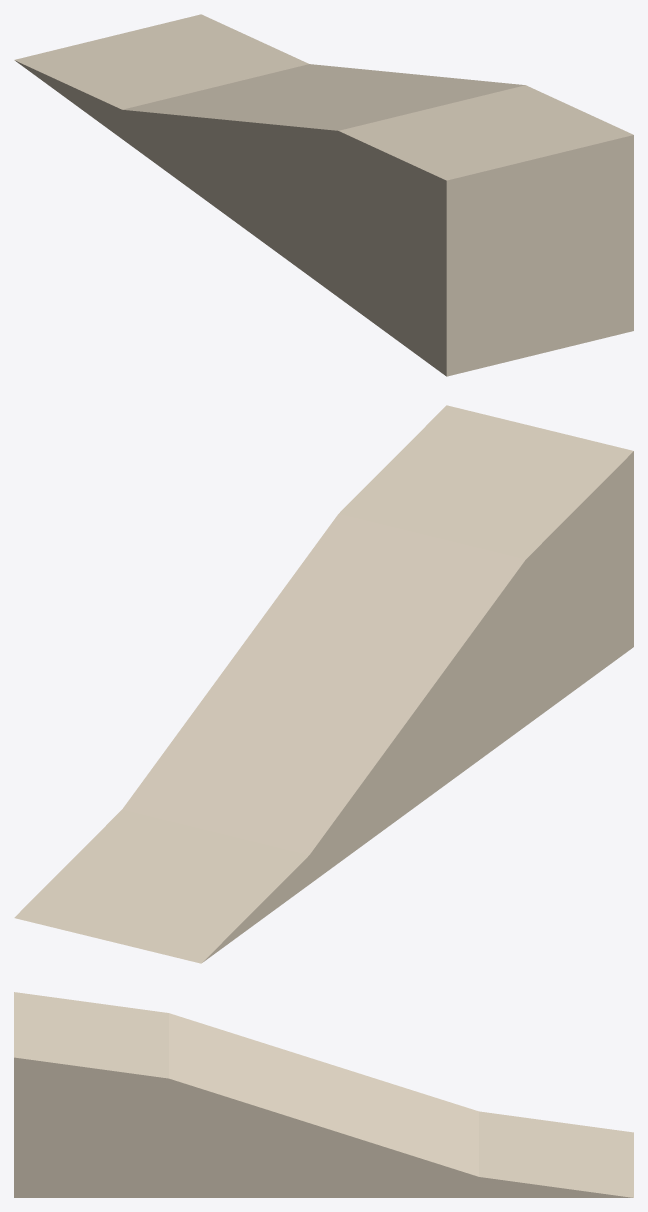
Rendered from Path_Hill_Gentle_Center.glb.
3 renders of one model, top to bottom at view 1: azimuth 30°, elevation 25°; view 2: azimuth 150°, elevation 25°; view 3: azimuth 270°, elevation 25°, orthographic. The views are drawn at different scales.
Parts seen in each view (by area): view 1: object1; view 2: object1; view 3: object1.
Part boxes in pixels (left/top/right/bottom): object1: left=14, top=14, right=633, bottom=376; object1: left=14, top=405, right=633, bottom=963; object1: left=14, top=992, right=633, bottom=1197.
Size of the model in its own units: 1 by 1 by 4.
